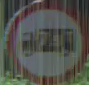Heavy Vehicles: (15, 11, 84, 66)
